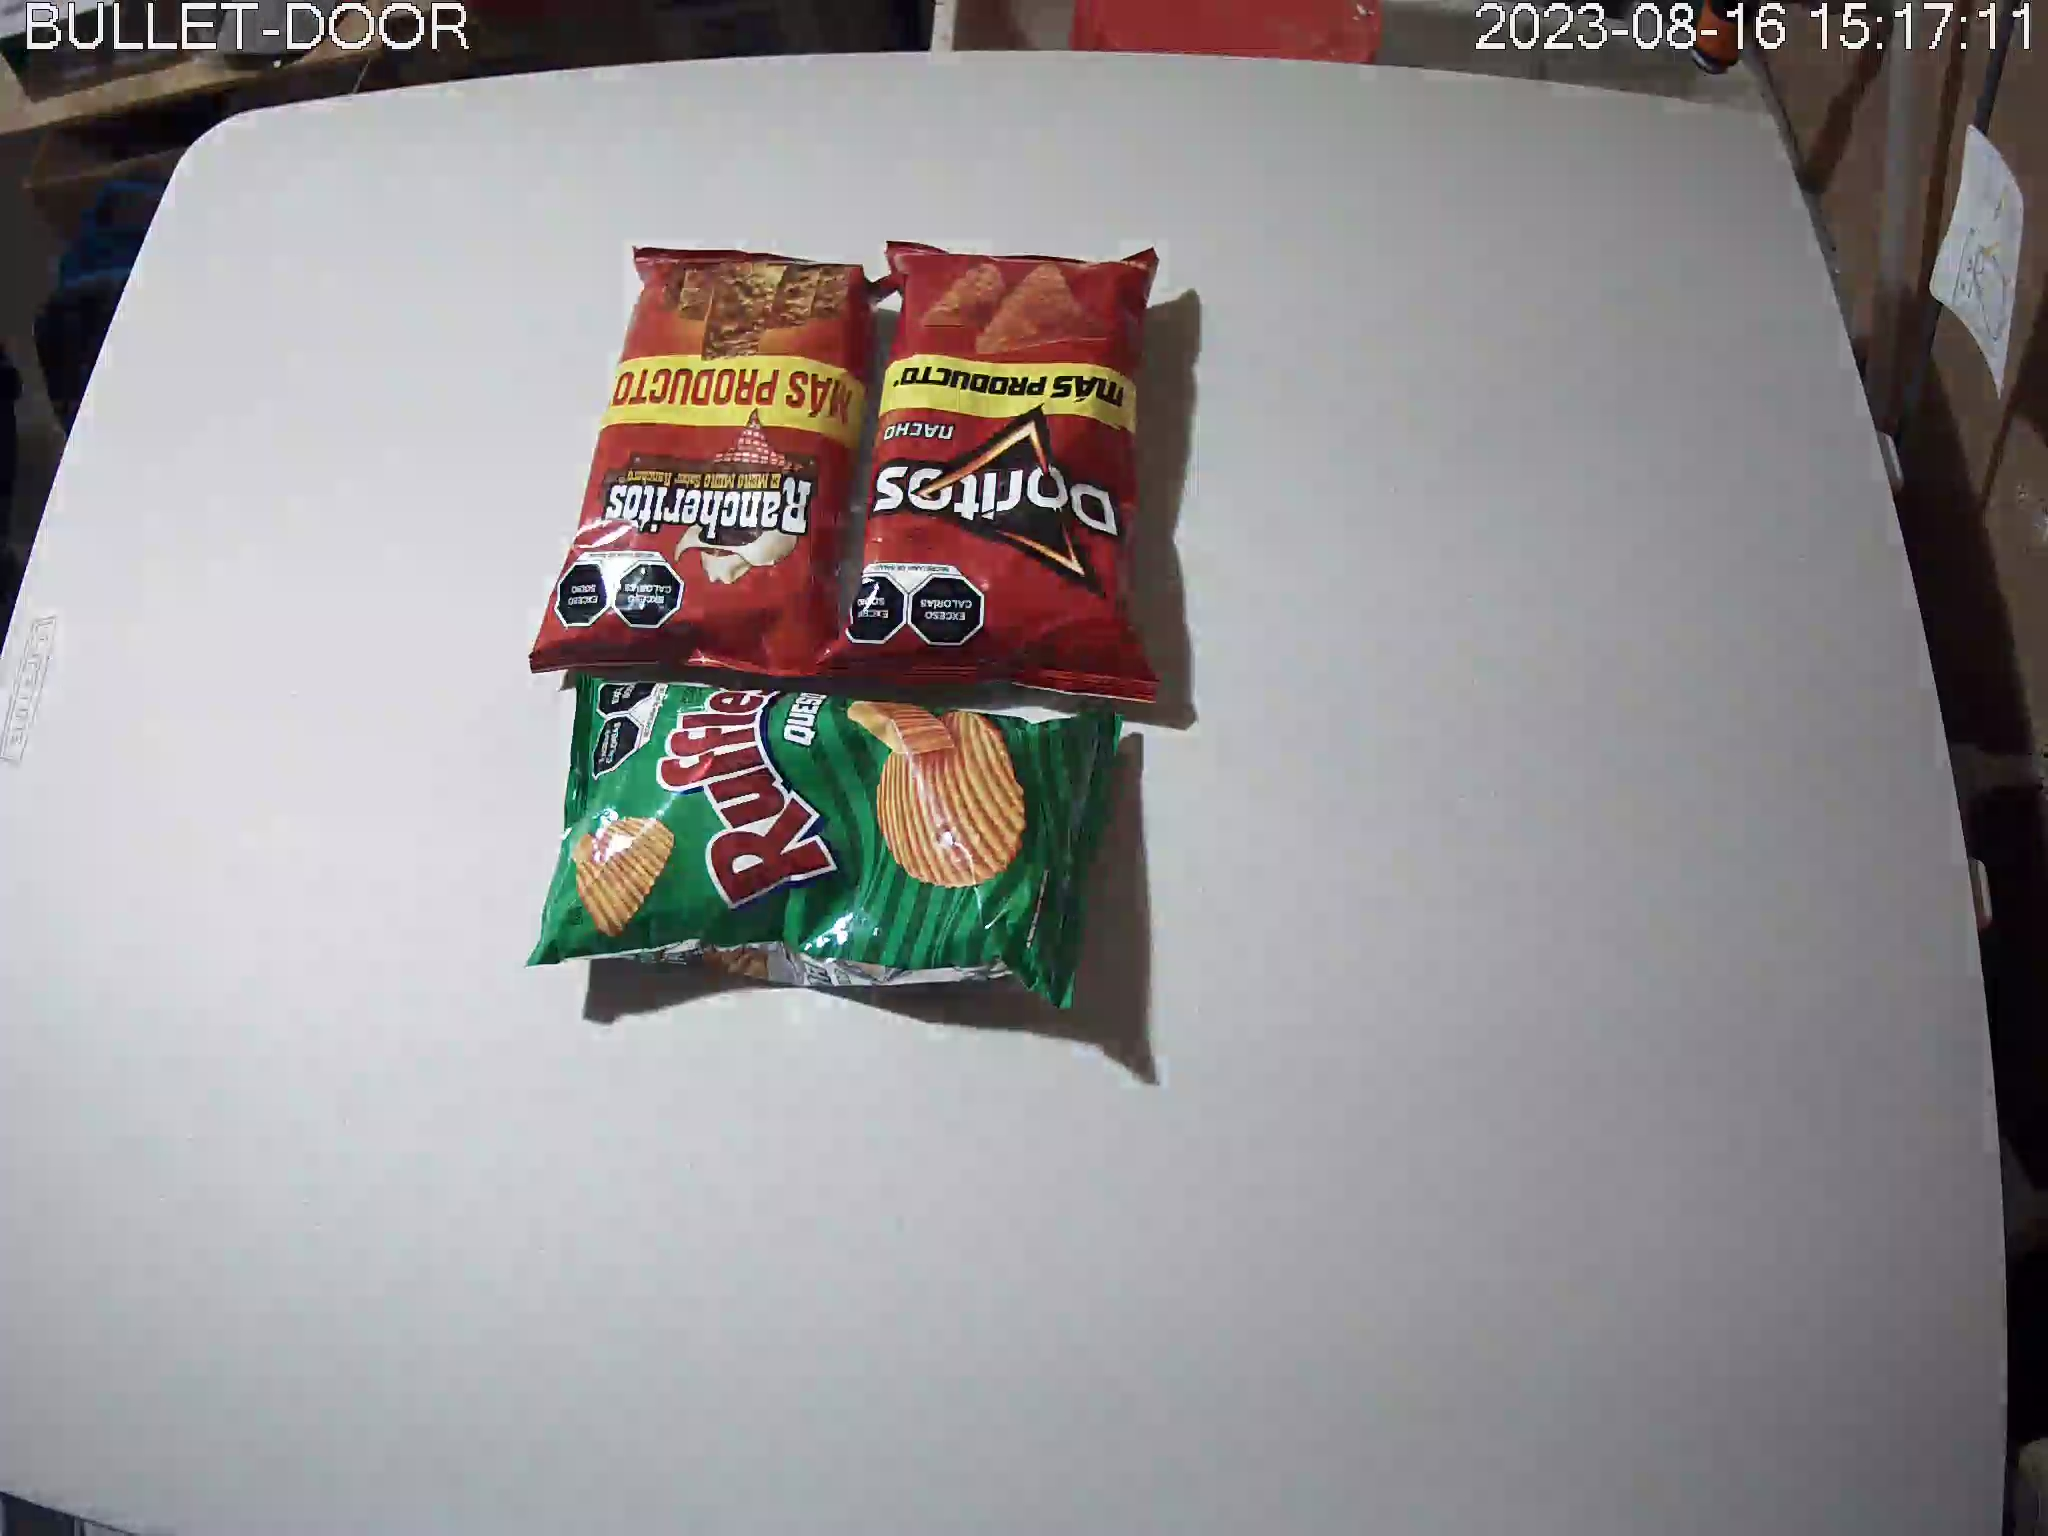DoritosN_61_F: (818, 240, 1168, 710)
Rancheritos_58_F: (527, 244, 906, 684)
RufflesQ_48_F: (522, 665, 1126, 1013)
